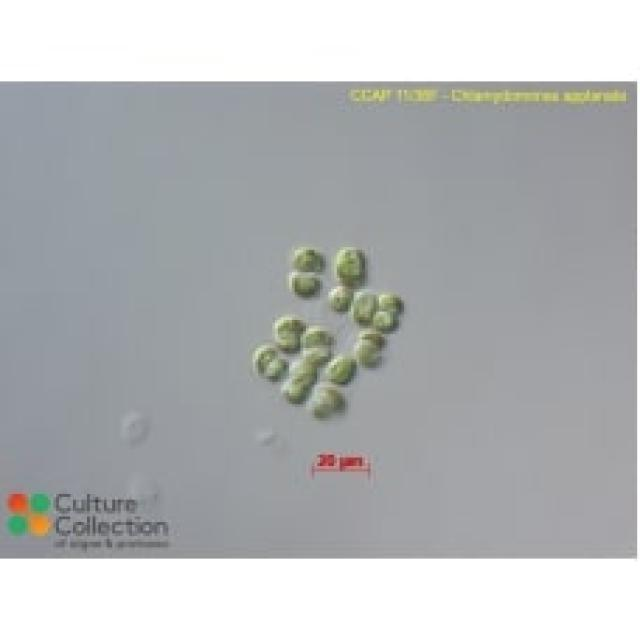Green Algae: (334, 242, 365, 289), (345, 284, 376, 326), (284, 267, 320, 300), (267, 312, 300, 348), (351, 337, 384, 368), (326, 354, 356, 387), (322, 284, 353, 314), (289, 247, 326, 272), (289, 354, 315, 384), (300, 326, 334, 348), (379, 286, 404, 314), (283, 382, 309, 404), (253, 345, 272, 368), (379, 314, 399, 332)
